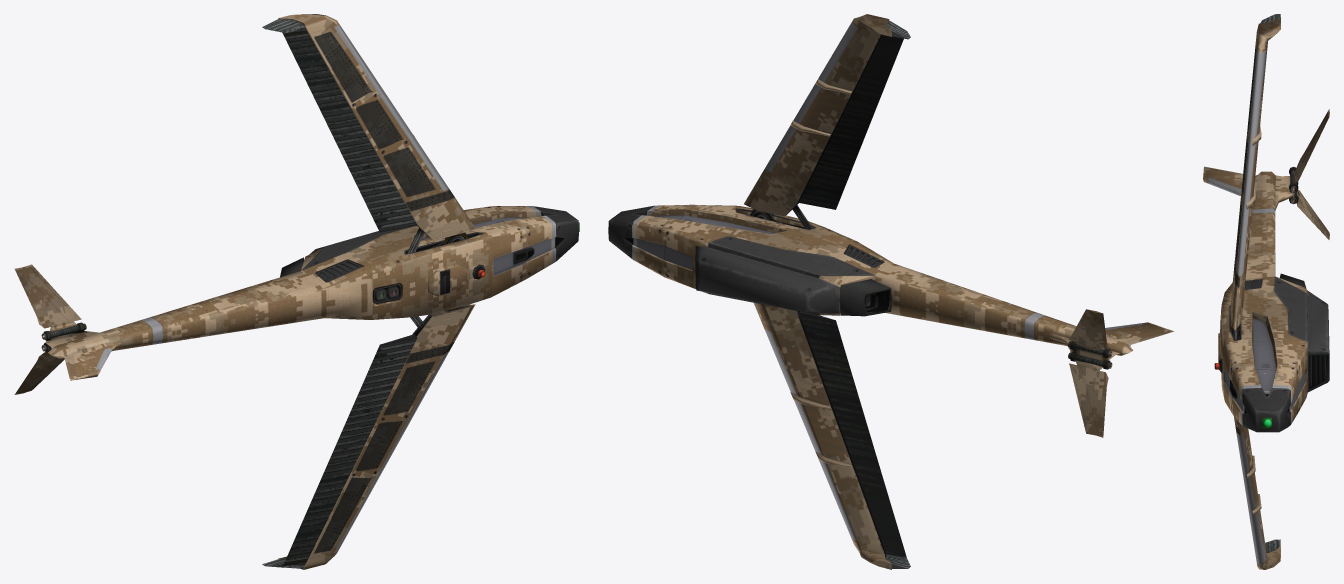
Rendered from veh_t6_drone_hunterkiller_LOD0.obj.
The picture shows the model from 3 angles, left to right: view 1: azimuth 30°, elevation 25°; view 2: azimuth 150°, elevation 25°; view 3: azimuth 270°, elevation 25°; orthographic projection. The views are drawn at different scales.
Parts seen in each view (by area): view 1: mat_veh_t6_drone_hunterkiller; view 2: mat_veh_t6_drone_hunterkiller; view 3: mat_veh_t6_drone_hunterkiller.
Part boxes in pixels (x1,y1,x2,y2): mat_veh_t6_drone_hunterkiller: [14, 14, 579, 569]; mat_veh_t6_drone_hunterkiller: [608, 14, 1173, 569]; mat_veh_t6_drone_hunterkiller: [1203, 14, 1329, 569].
Size of the model in its own units: 118 by 114 by 24.58.
